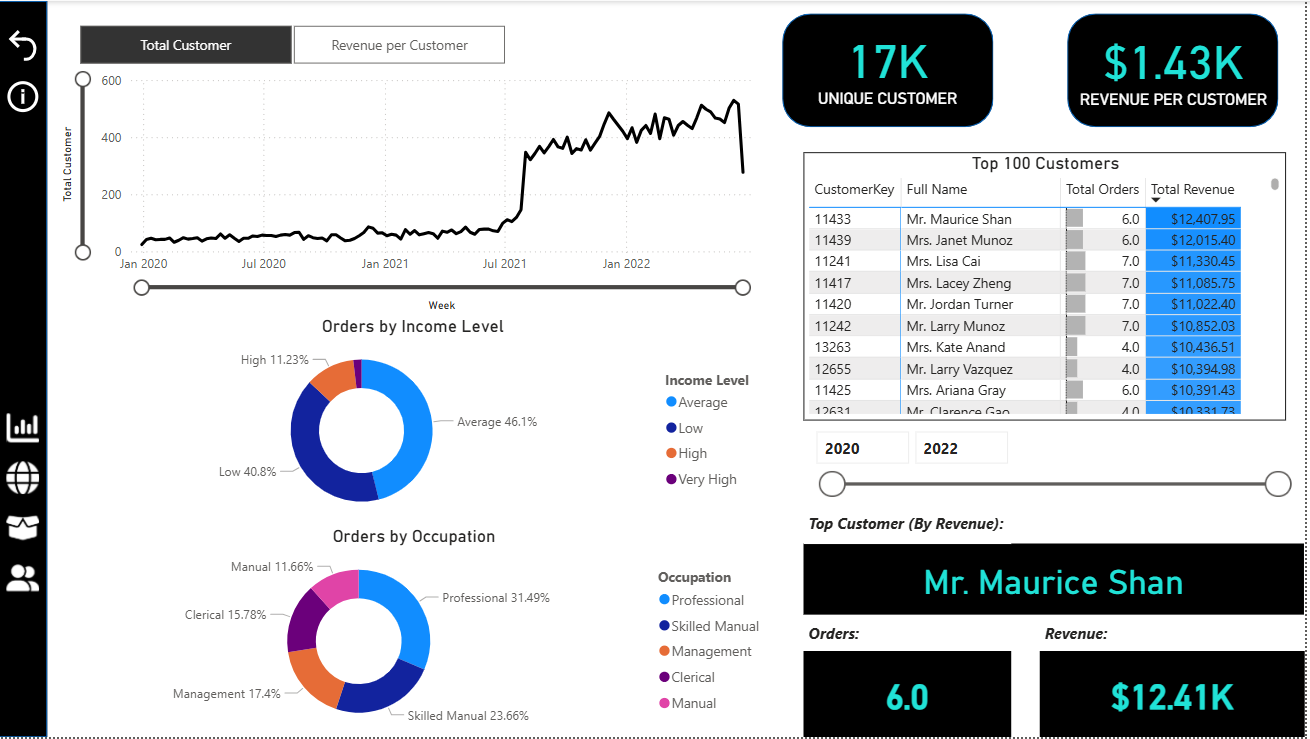

This screenshot's page, from the dashboard's own definition file:
{"tool":"powerbi","page":{"name":"Customer Detail","canvas":[1280,720],"ordinal":3},"visuals":[{"type":"shape","box":[0,0,50.1,720.2],"z":0},{"type":"shape","box":[1048,12.2,206.7,111.3],"z":1000},{"type":"shape","box":[769.2,12.2,206.7,111.3],"z":2000},{"type":"card","fields":{"Values":["Measure Table.Total Customer"]},"box":[776.5,12.2,192,101.5],"z":3000},{"type":"card","fields":{"Values":["Measure Table.Average revenue per person"]},"box":[1040.6,6.1,222.6,114.9],"z":4000},{"type":"lineChart","title":"Total Customers","fields":{"Y":["Measure Table.Total Customer"],"Category":["Calendar Lookup.Date Hierarchy.Start of Year","Calendar Lookup.Date Hierarchy.Start of Month","Calendar Lookup.Date Hierarchy.Start of Week","Calendar Lookup.Date Hierarchy.Date"]},"box":[56.3,63.6,703.1,244.6],"z":5000},{"type":"donutChart","title":"Orders by Income Level","fields":{"Y":["Measure Table.Total Orders"],"Category":["Customer Lookup.Income Level"]},"box":[56.3,308.2,703.1,205.4],"z":6000},{"type":"donutChart","fields":{"Y":["Measure Table.Total Orders"],"Category":["Customer Lookup.Occupation"]},"box":[57.5,513.6,703.1,206.7],"z":7000},{"type":"pivotTable","title":"Top 100 Customers","fields":{"Values":["Customer Lookup.Full Name","Measure Table.Total Orders","Measure Table.Total Revenue"],"Rows":["Customer Lookup.CustomerKey"]},"box":[790.4,148.2,472,262.1],"z":8000},{"type":"card","fields":{"Values":["Customer Lookup.Full Name"]},"box":[790.4,531,489.9,70],"z":9000},{"type":"textbox","box":[790.4,495.4,203.1,35.7],"z":10000},{"type":"card","fields":{"Values":["Measure Table.Total Orders"]},"box":[790.4,635.3,203.1,85.1],"z":11000},{"type":"textbox","box":[790.4,602.4,108.4,32.9],"z":12000},{"type":"card","fields":{"Values":["Measure Table.Total Revenue"]},"box":[1020.9,635.3,259.3,85.1],"z":13000},{"type":"textbox","box":[1020.9,602.4,107,32.9],"z":14000},{"type":"slicer","fields":{"Values":["Calendar Lookup.Year"]},"box":[790.4,410.3,485.8,85.1],"z":15000},{"type":"actionButton","box":[6.1,397.4,56.3,40.4],"z":16000},{"type":"actionButton","box":[6.1,495.2,56.3,40.4],"z":17000},{"type":"actionButton","box":[6.1,446.3,56.3,40.4],"z":18000},{"type":"actionButton","box":[6.1,544.2,56.3,40.4],"z":19000},{"type":"actionButton","box":[6.1,73.4,100.3,40.4],"z":20000},{"type":"actionButton","box":[6.1,23.2,100.3,40.4],"z":21000},{"type":"slicer","fields":{"Values":["Parameter.Parameter"]},"box":[56.3,17.1,465.9,51.4],"z":22000}]}

Visuals, with their boxes on the page's 1280x720 design canvas (x1, y1, x2, y2). These are canvas units, not pixel positions in the 1310x739 screenshot, which may show the page scaled, cropped or inside an application window:
shape: box=[0, 0, 50, 720]
shape: box=[1048, 12, 1255, 124]
shape: box=[769, 12, 976, 124]
card - Measure Table.Total Customer: box=[776, 12, 968, 114]
card - Measure Table.Average revenue per person: box=[1041, 6, 1263, 121]
"Total Customers" lineChart: box=[56, 64, 759, 308]
"Orders by Income Level" donutChart: box=[56, 308, 759, 514]
donutChart - Measure Table.Total Orders x Customer Lookup.Occupation: box=[58, 514, 761, 720]
"Top 100 Customers" pivotTable: box=[790, 148, 1262, 410]
card - Customer Lookup.Full Name: box=[790, 531, 1280, 601]
textbox: box=[790, 495, 994, 531]
card - Measure Table.Total Orders: box=[790, 635, 994, 720]
textbox: box=[790, 602, 899, 635]
card - Measure Table.Total Revenue: box=[1021, 635, 1280, 720]
textbox: box=[1021, 602, 1128, 635]
slicer - Calendar Lookup.Year: box=[790, 410, 1276, 495]
actionButton: box=[6, 397, 62, 438]
actionButton: box=[6, 495, 62, 536]
actionButton: box=[6, 446, 62, 487]
actionButton: box=[6, 544, 62, 585]
actionButton: box=[6, 73, 106, 114]
actionButton: box=[6, 23, 106, 64]
slicer - Parameter.Parameter: box=[56, 17, 522, 68]
